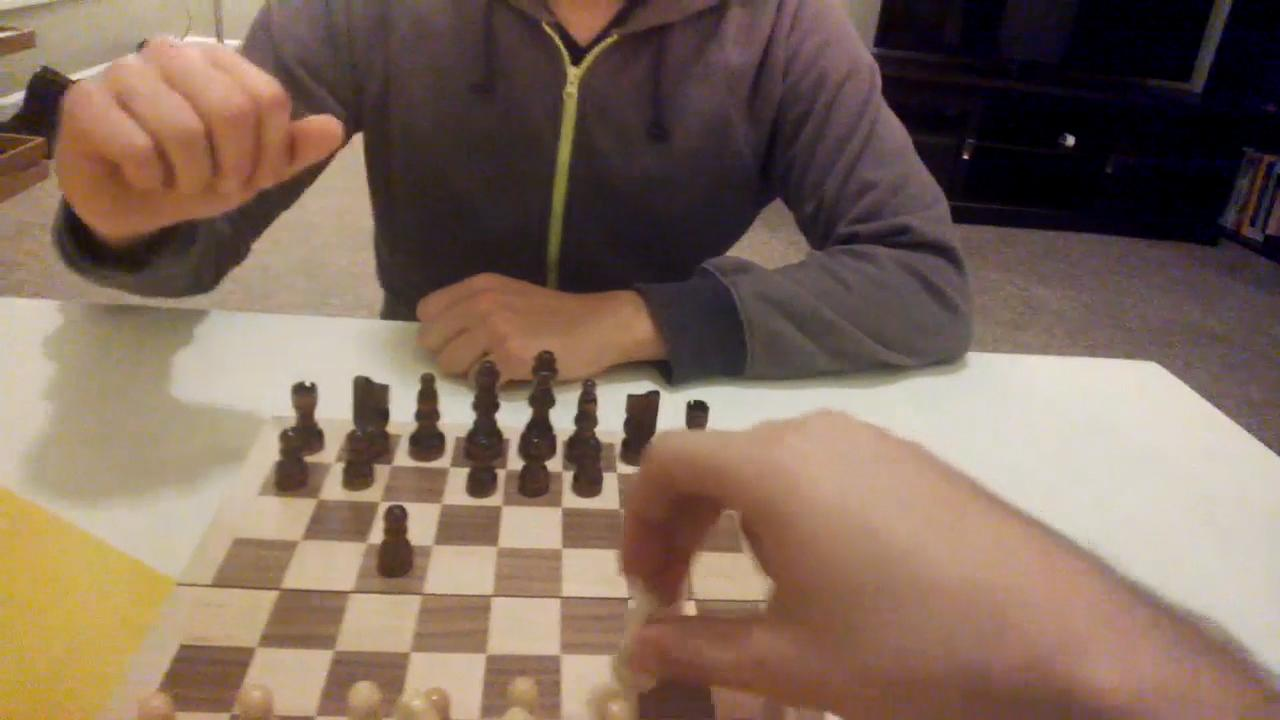hand: (613, 407, 1087, 717), (50, 27, 350, 232), (400, 265, 634, 390)
